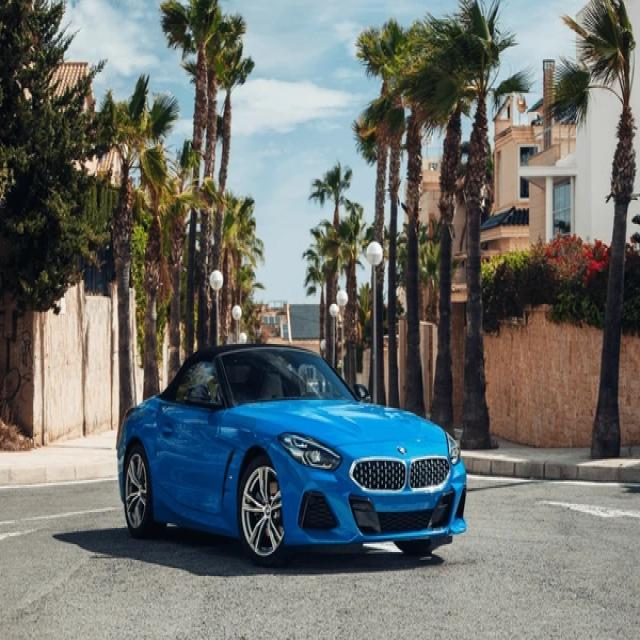bmw: (398, 441, 408, 458)
